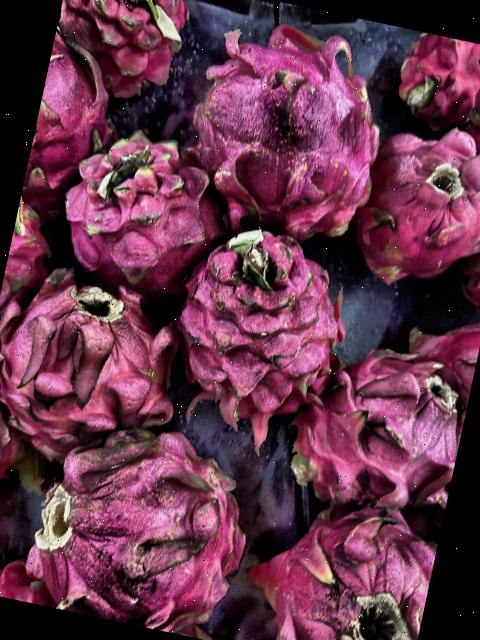buah-naga-matang: (8, 399, 262, 634), (168, 8, 402, 238), (151, 214, 380, 445), (278, 323, 478, 524), (43, 117, 241, 300), (0, 250, 183, 443), (240, 473, 445, 640), (340, 111, 480, 301), (22, 22, 122, 201), (49, 0, 200, 92), (383, 27, 480, 125)
